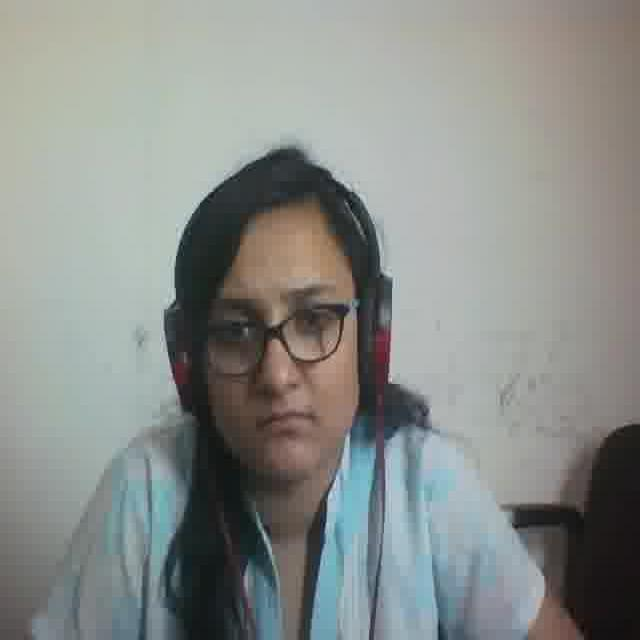Confusion: (201, 226, 357, 482)
